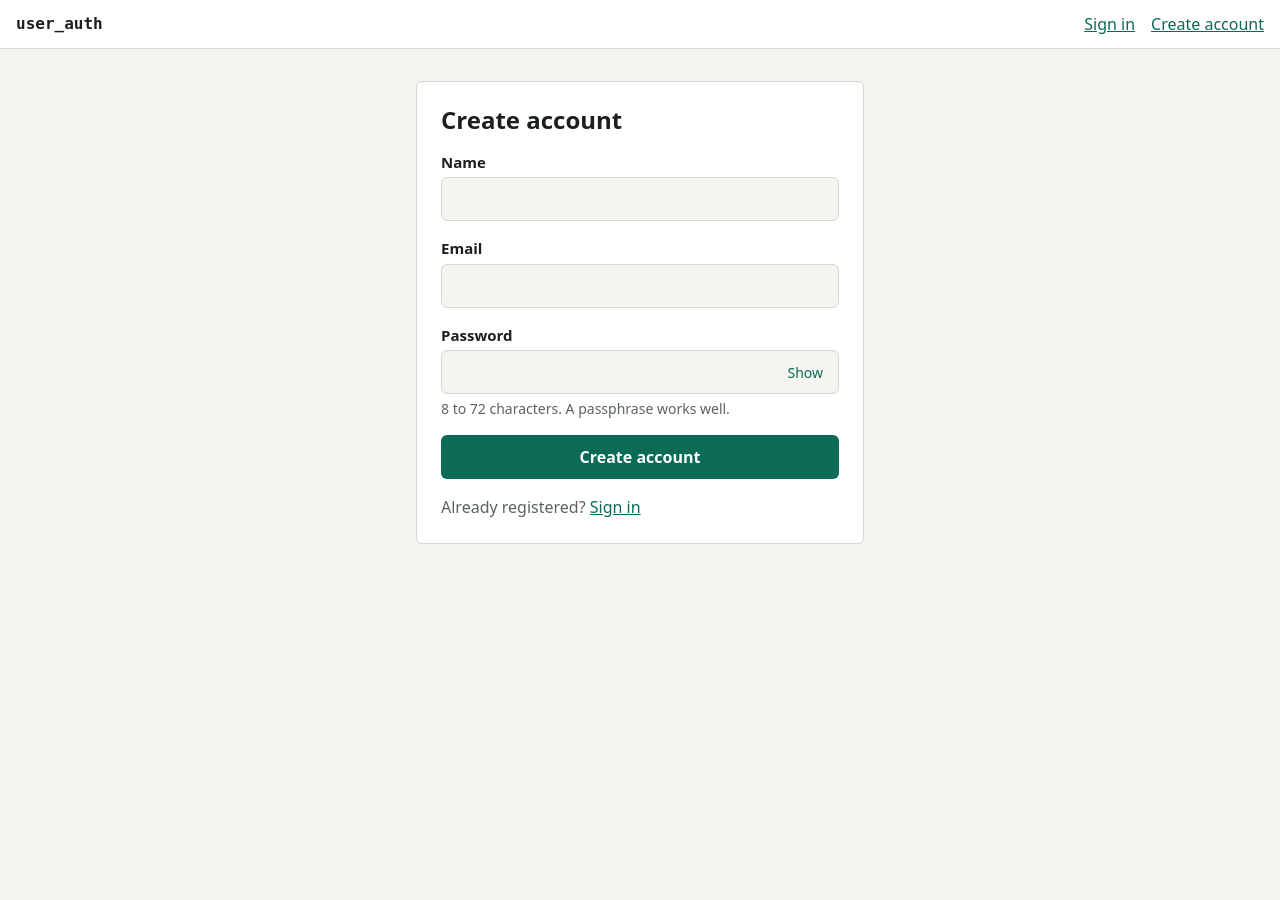
Test: register form › registers, signs in and lands on the dashboard
In the field labelled "Name": (640, 199) [441, 177, 839, 221], type "Ann"
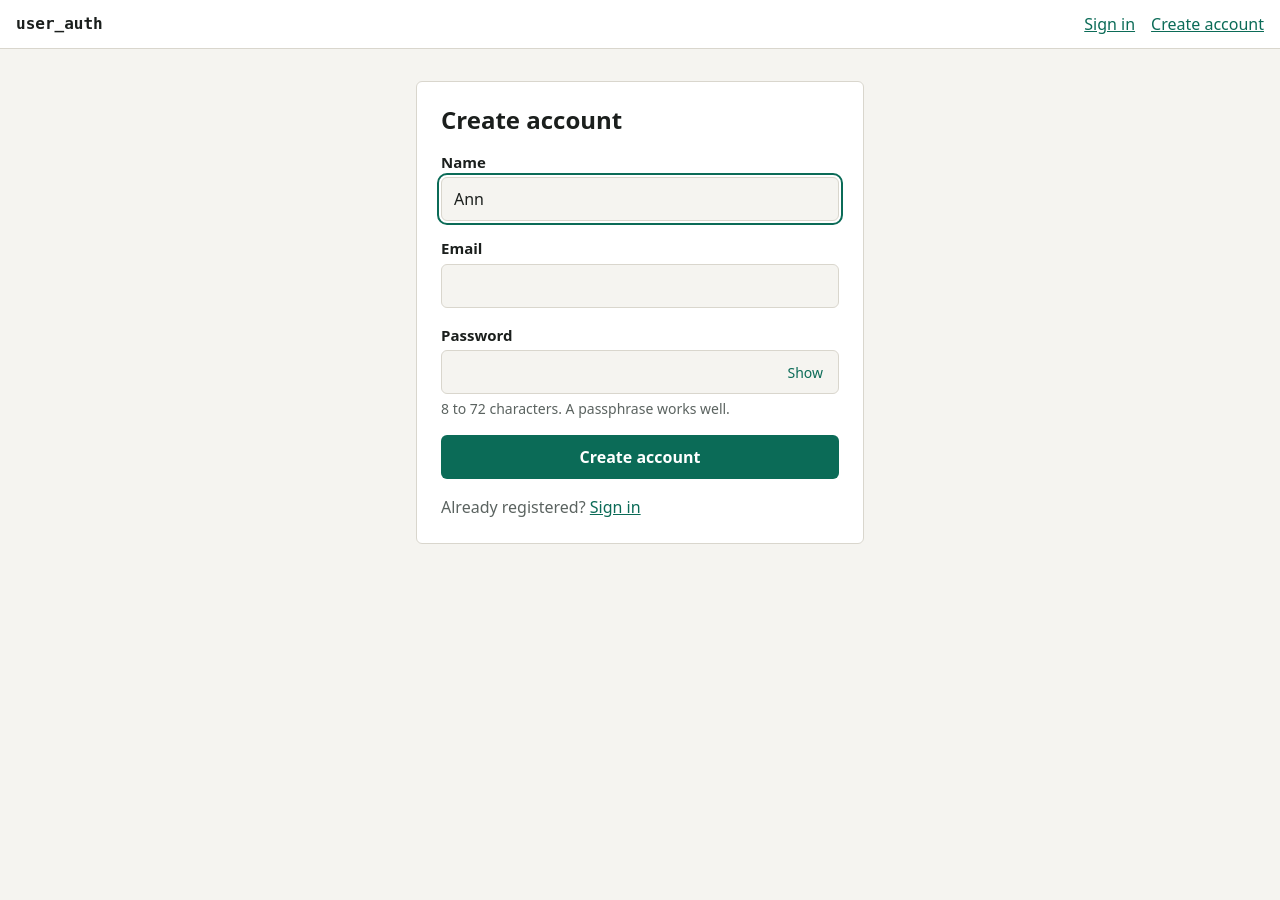
In the field labelled "Email": (640, 286) [441, 264, 839, 308], type "ann@example.com"
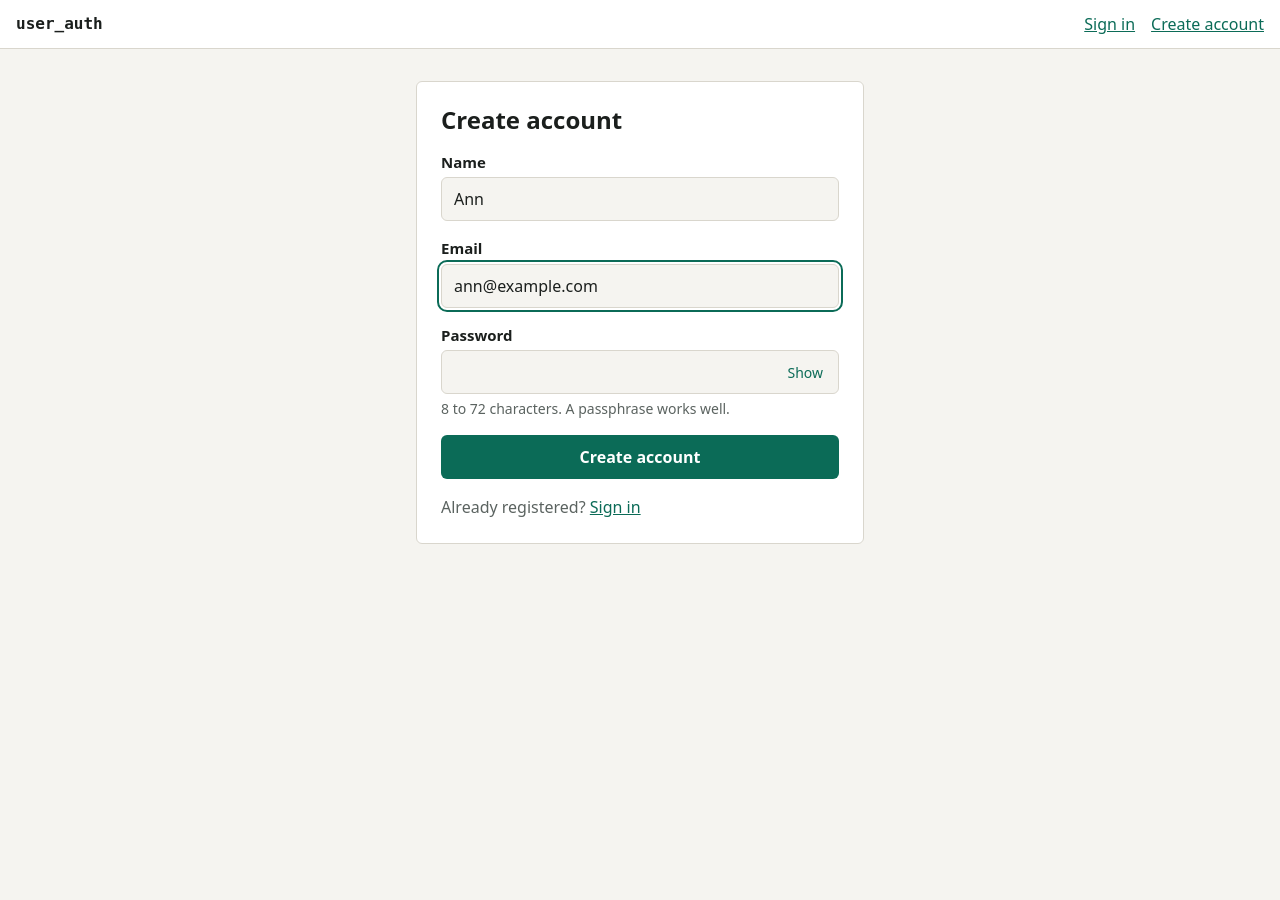
In the password field labelled "Password": (640, 372) [441, 350, 839, 394], type "password1"
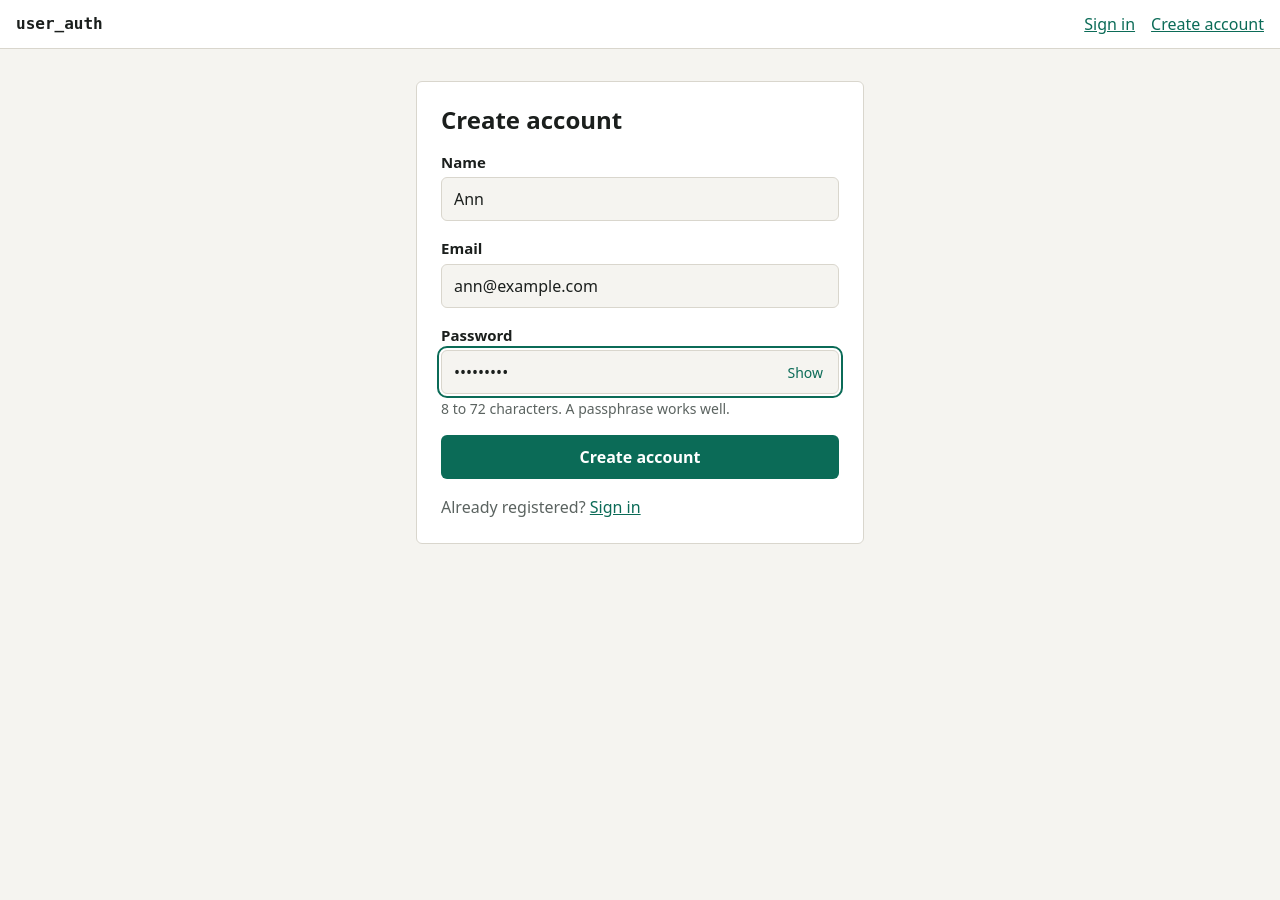
Click the button "Create account": (640, 457) [441, 435, 839, 479]
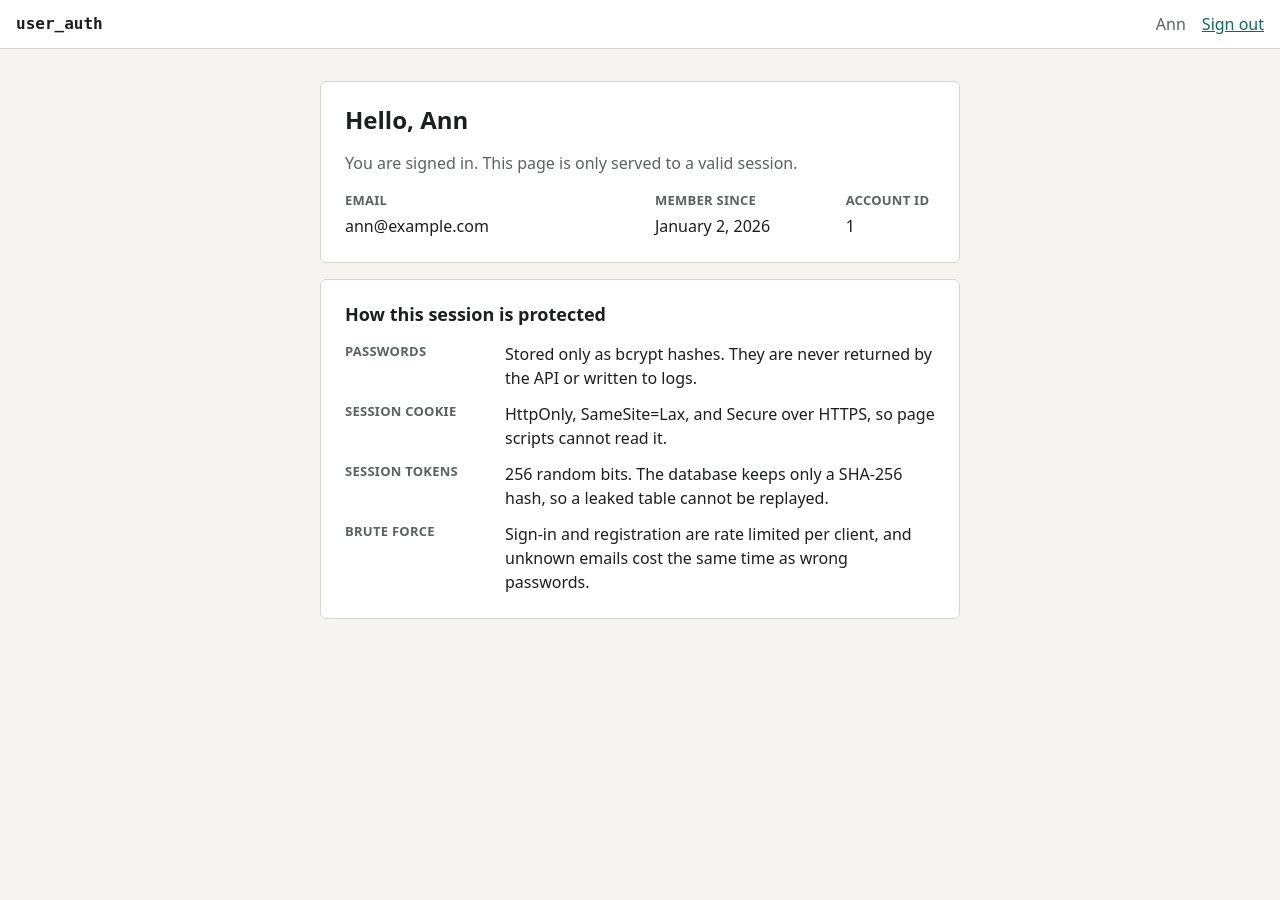
Expected: the heading "Hello, Ann" is shown, [345, 103, 468, 136]
